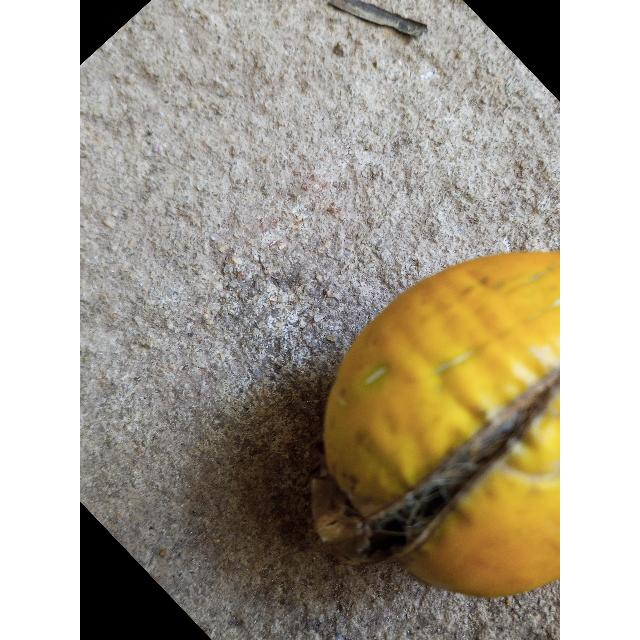damaged: (311, 252, 560, 597)
